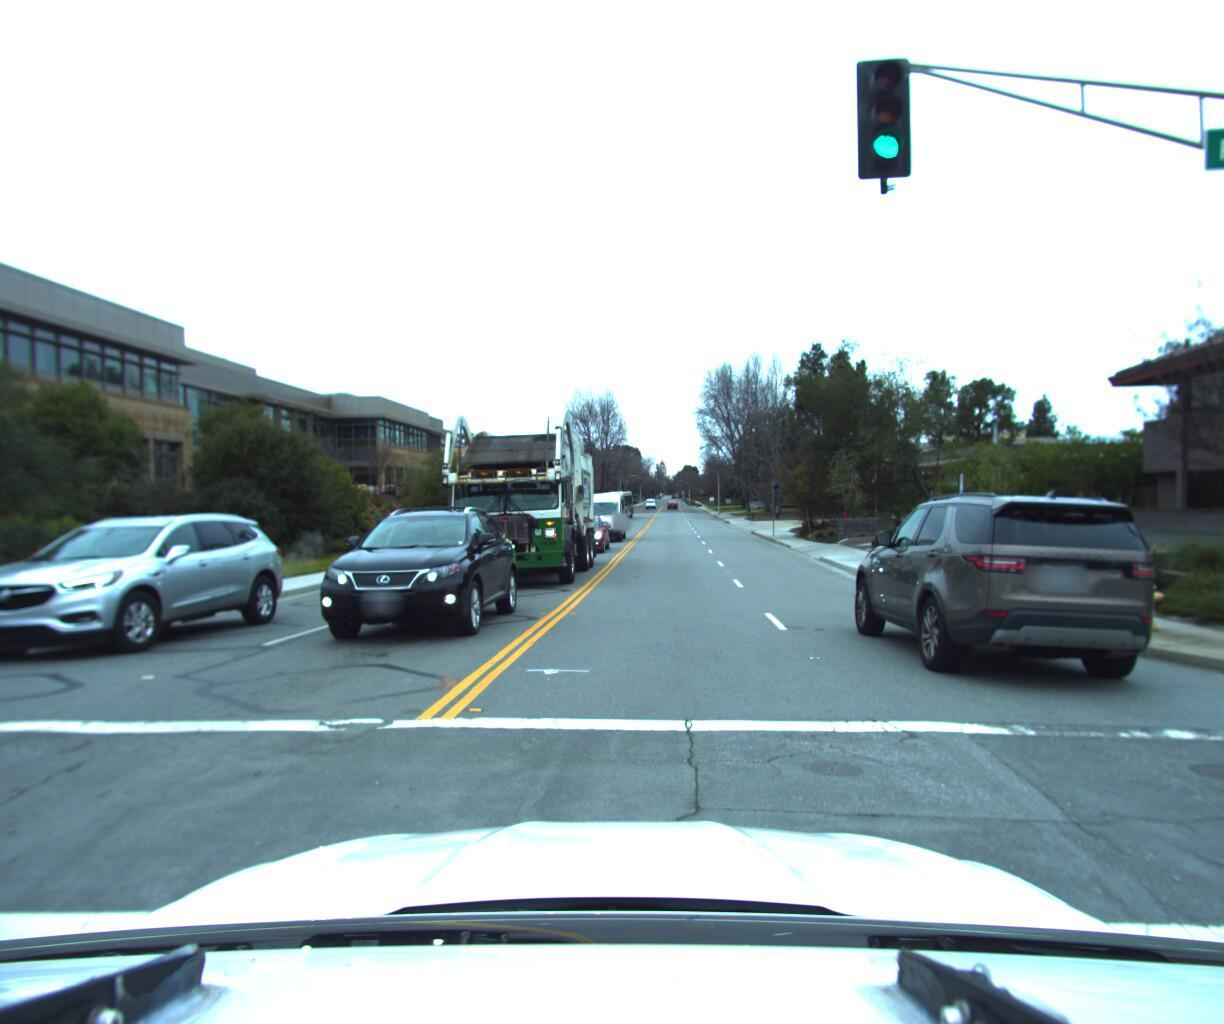bus: (595, 483, 634, 515)
car: (844, 481, 1202, 706), (297, 503, 524, 660), (575, 489, 626, 541), (553, 510, 609, 555)
truck: (430, 398, 604, 599)
